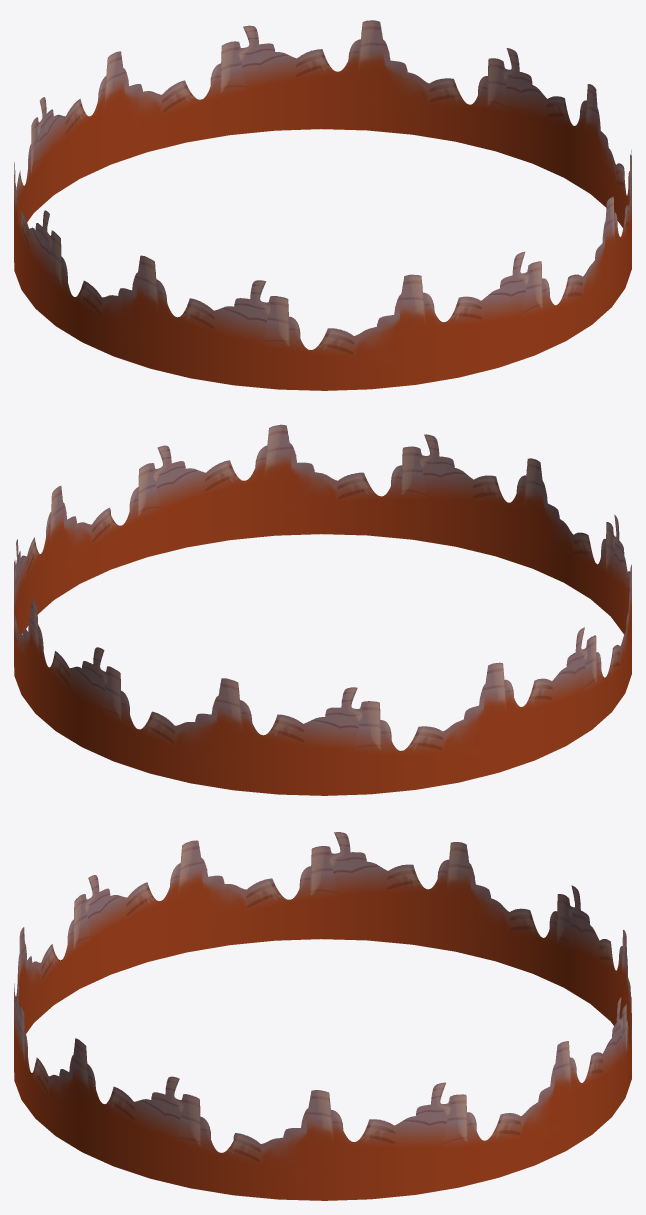
Rendered from Montanhas.fbx.
3 views of the same model, one above another, from view 1: azimuth 30°, elevation 25°; view 2: azimuth 150°, elevation 25°; view 3: azimuth 270°, elevation 25° (orthographic).
Parts seen in each view (by area): view 1: pCylinder1; view 2: pCylinder1; view 3: pCylinder1.
Part boxes in pixels (<box>): pCylinder1: <box>14,20,631,390</box>; pCylinder1: <box>14,424,631,795</box>; pCylinder1: <box>14,832,631,1200</box>.
Size of the model in its own units: 114 by 23.4 by 114.
